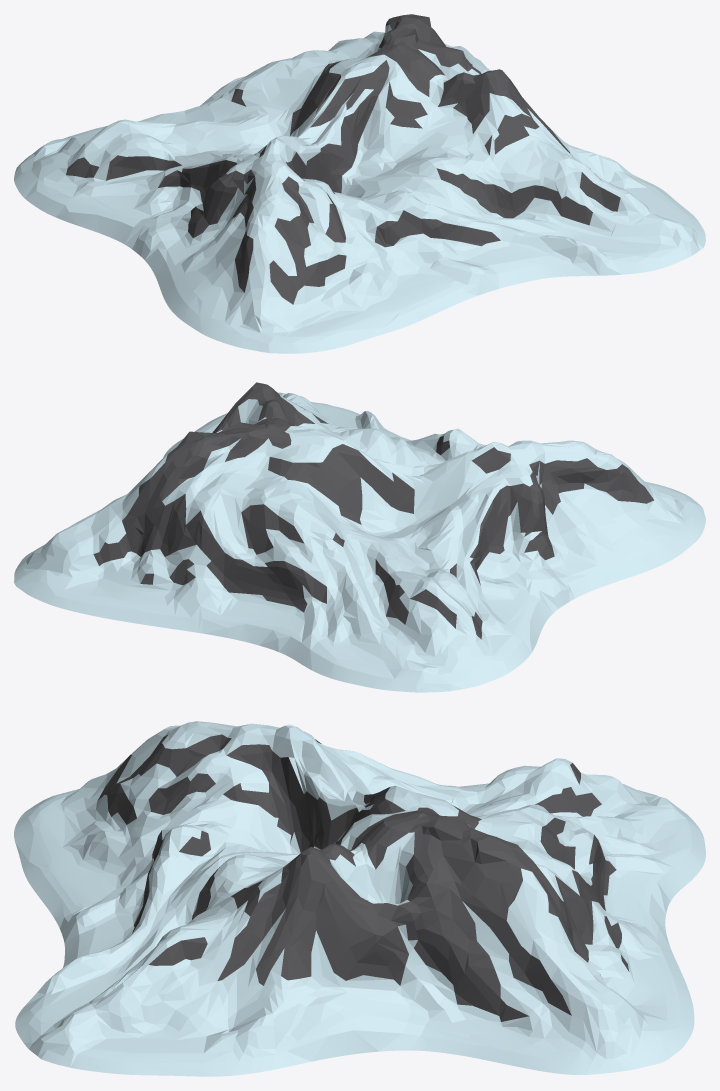
The model's file is Motaña_Nieve.glb.
3 renders of one model, top to bottom at view 1: azimuth 30°, elevation 25°; view 2: azimuth 150°, elevation 25°; view 3: azimuth 270°, elevation 25°, orthographic. The views are drawn at different scales.
Parts seen in each view (by area): view 1: SM_Env_Mountains_02_1; view 2: SM_Env_Mountains_02_1; view 3: SM_Env_Mountains_02_1.
Part boxes in pixels (x1,y1,x2,y2): SM_Env_Mountains_02_1: [14, 14, 705, 353]; SM_Env_Mountains_02_1: [14, 382, 705, 692]; SM_Env_Mountains_02_1: [14, 721, 705, 1076].
Bounding box in the file's own units: 74.13 × 18.25 × 73.27.
1 material, 1 textured.
